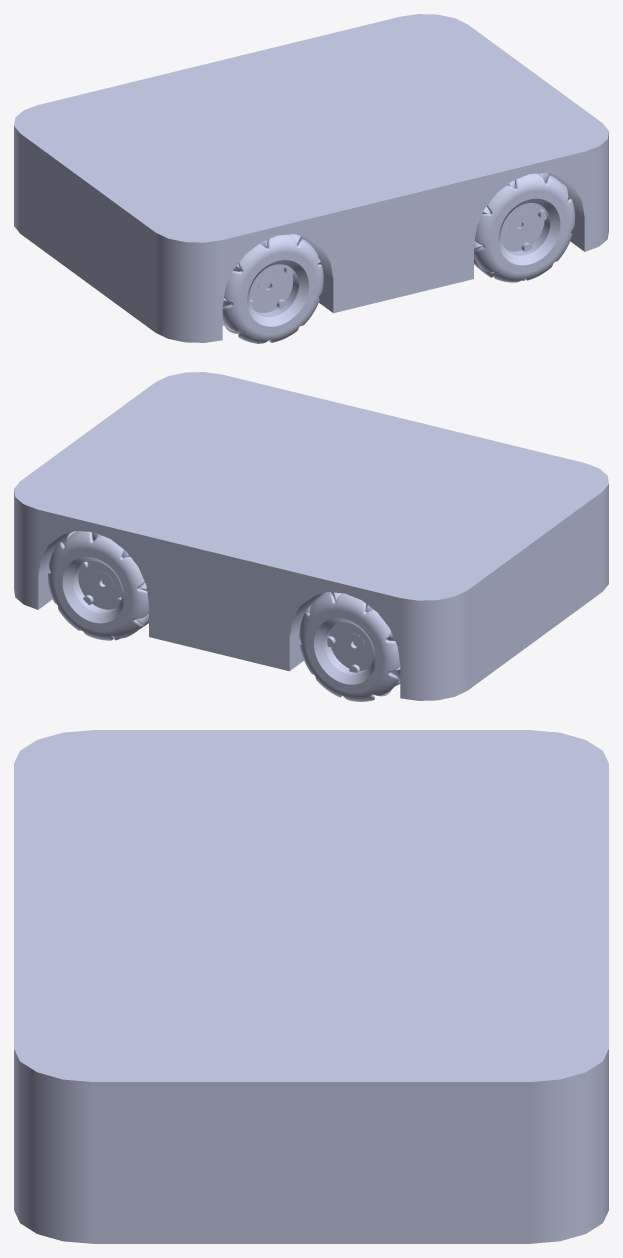
File: AGV_SIM_F.glb
3 renders of one model, top to bottom at view 1: azimuth 30°, elevation 25°; view 2: azimuth 150°, elevation 25°; view 3: azimuth 270°, elevation 25°, orthographic. The views are drawn at different scales.
Visible parts, largest first — view 1: AGV_SIM-1, MirrorSide 2_1.step-1, Side 2_1.step-6; view 2: AGV_SIM-1, MirrorMirrorSide 2_1.step-1, MirrorSide 2_1.step-1; view 3: AGV_SIM-1.
Part boxes in pixels (box(x1,y1,x2,y2)): AGV_SIM-1: box(14, 14, 608, 342); MirrorSide 2_1.step-1: box(222, 234, 323, 343); Side 2_1.step-6: box(474, 173, 574, 282); AGV_SIM-1: box(14, 372, 608, 700); MirrorMirrorSide 2_1.step-1: box(299, 592, 400, 701); MirrorSide 2_1.step-1: box(48, 531, 148, 640); AGV_SIM-1: box(14, 730, 608, 1243).
Bounding box in the file's own units: 0.21 × 0.0544 × 0.15.
